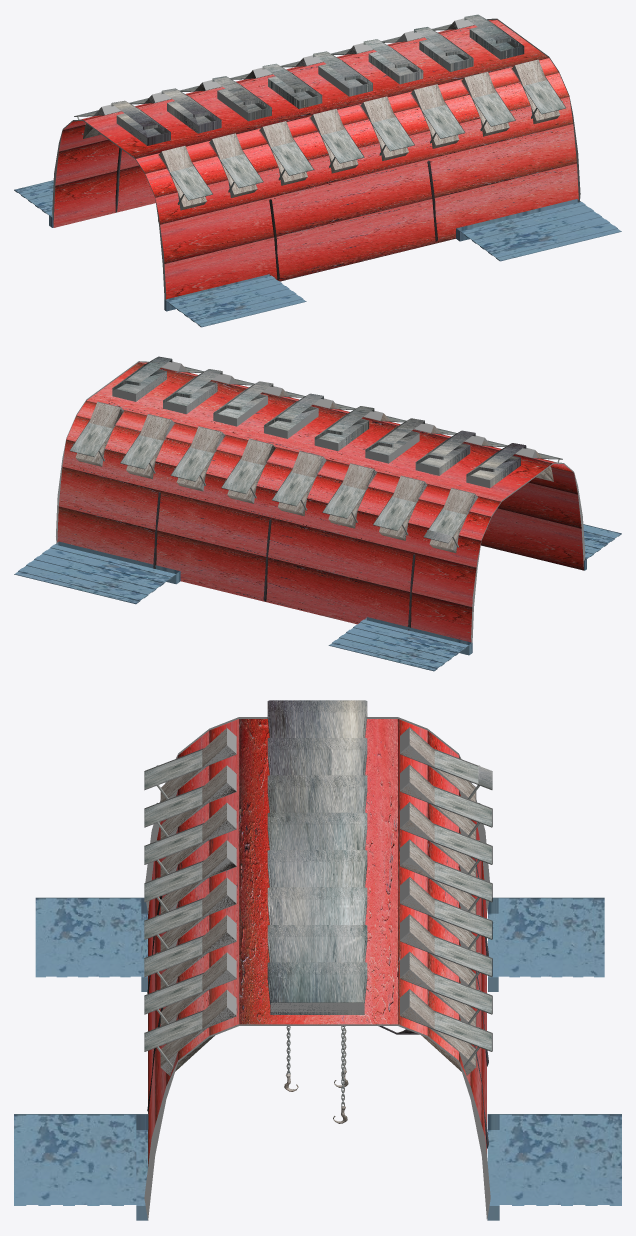
Rendered from SceneRoof.fbx.
3 renders of one model, top to bottom at view 1: azimuth 30°, elevation 25°; view 2: azimuth 150°, elevation 25°; view 3: azimuth 270°, elevation 25°, orthographic. The views are drawn at different scales.
Visible parts, largest first — view 1: polySurface304; view 2: polySurface304; view 3: polySurface304.
Part boxes in pixels (x1,y1,x2,y2): polySurface304: [14, 14, 621, 327]; polySurface304: [14, 356, 621, 671]; polySurface304: [14, 700, 621, 1220].
Bounding box in the file's own units: 878 × 329 × 733.
